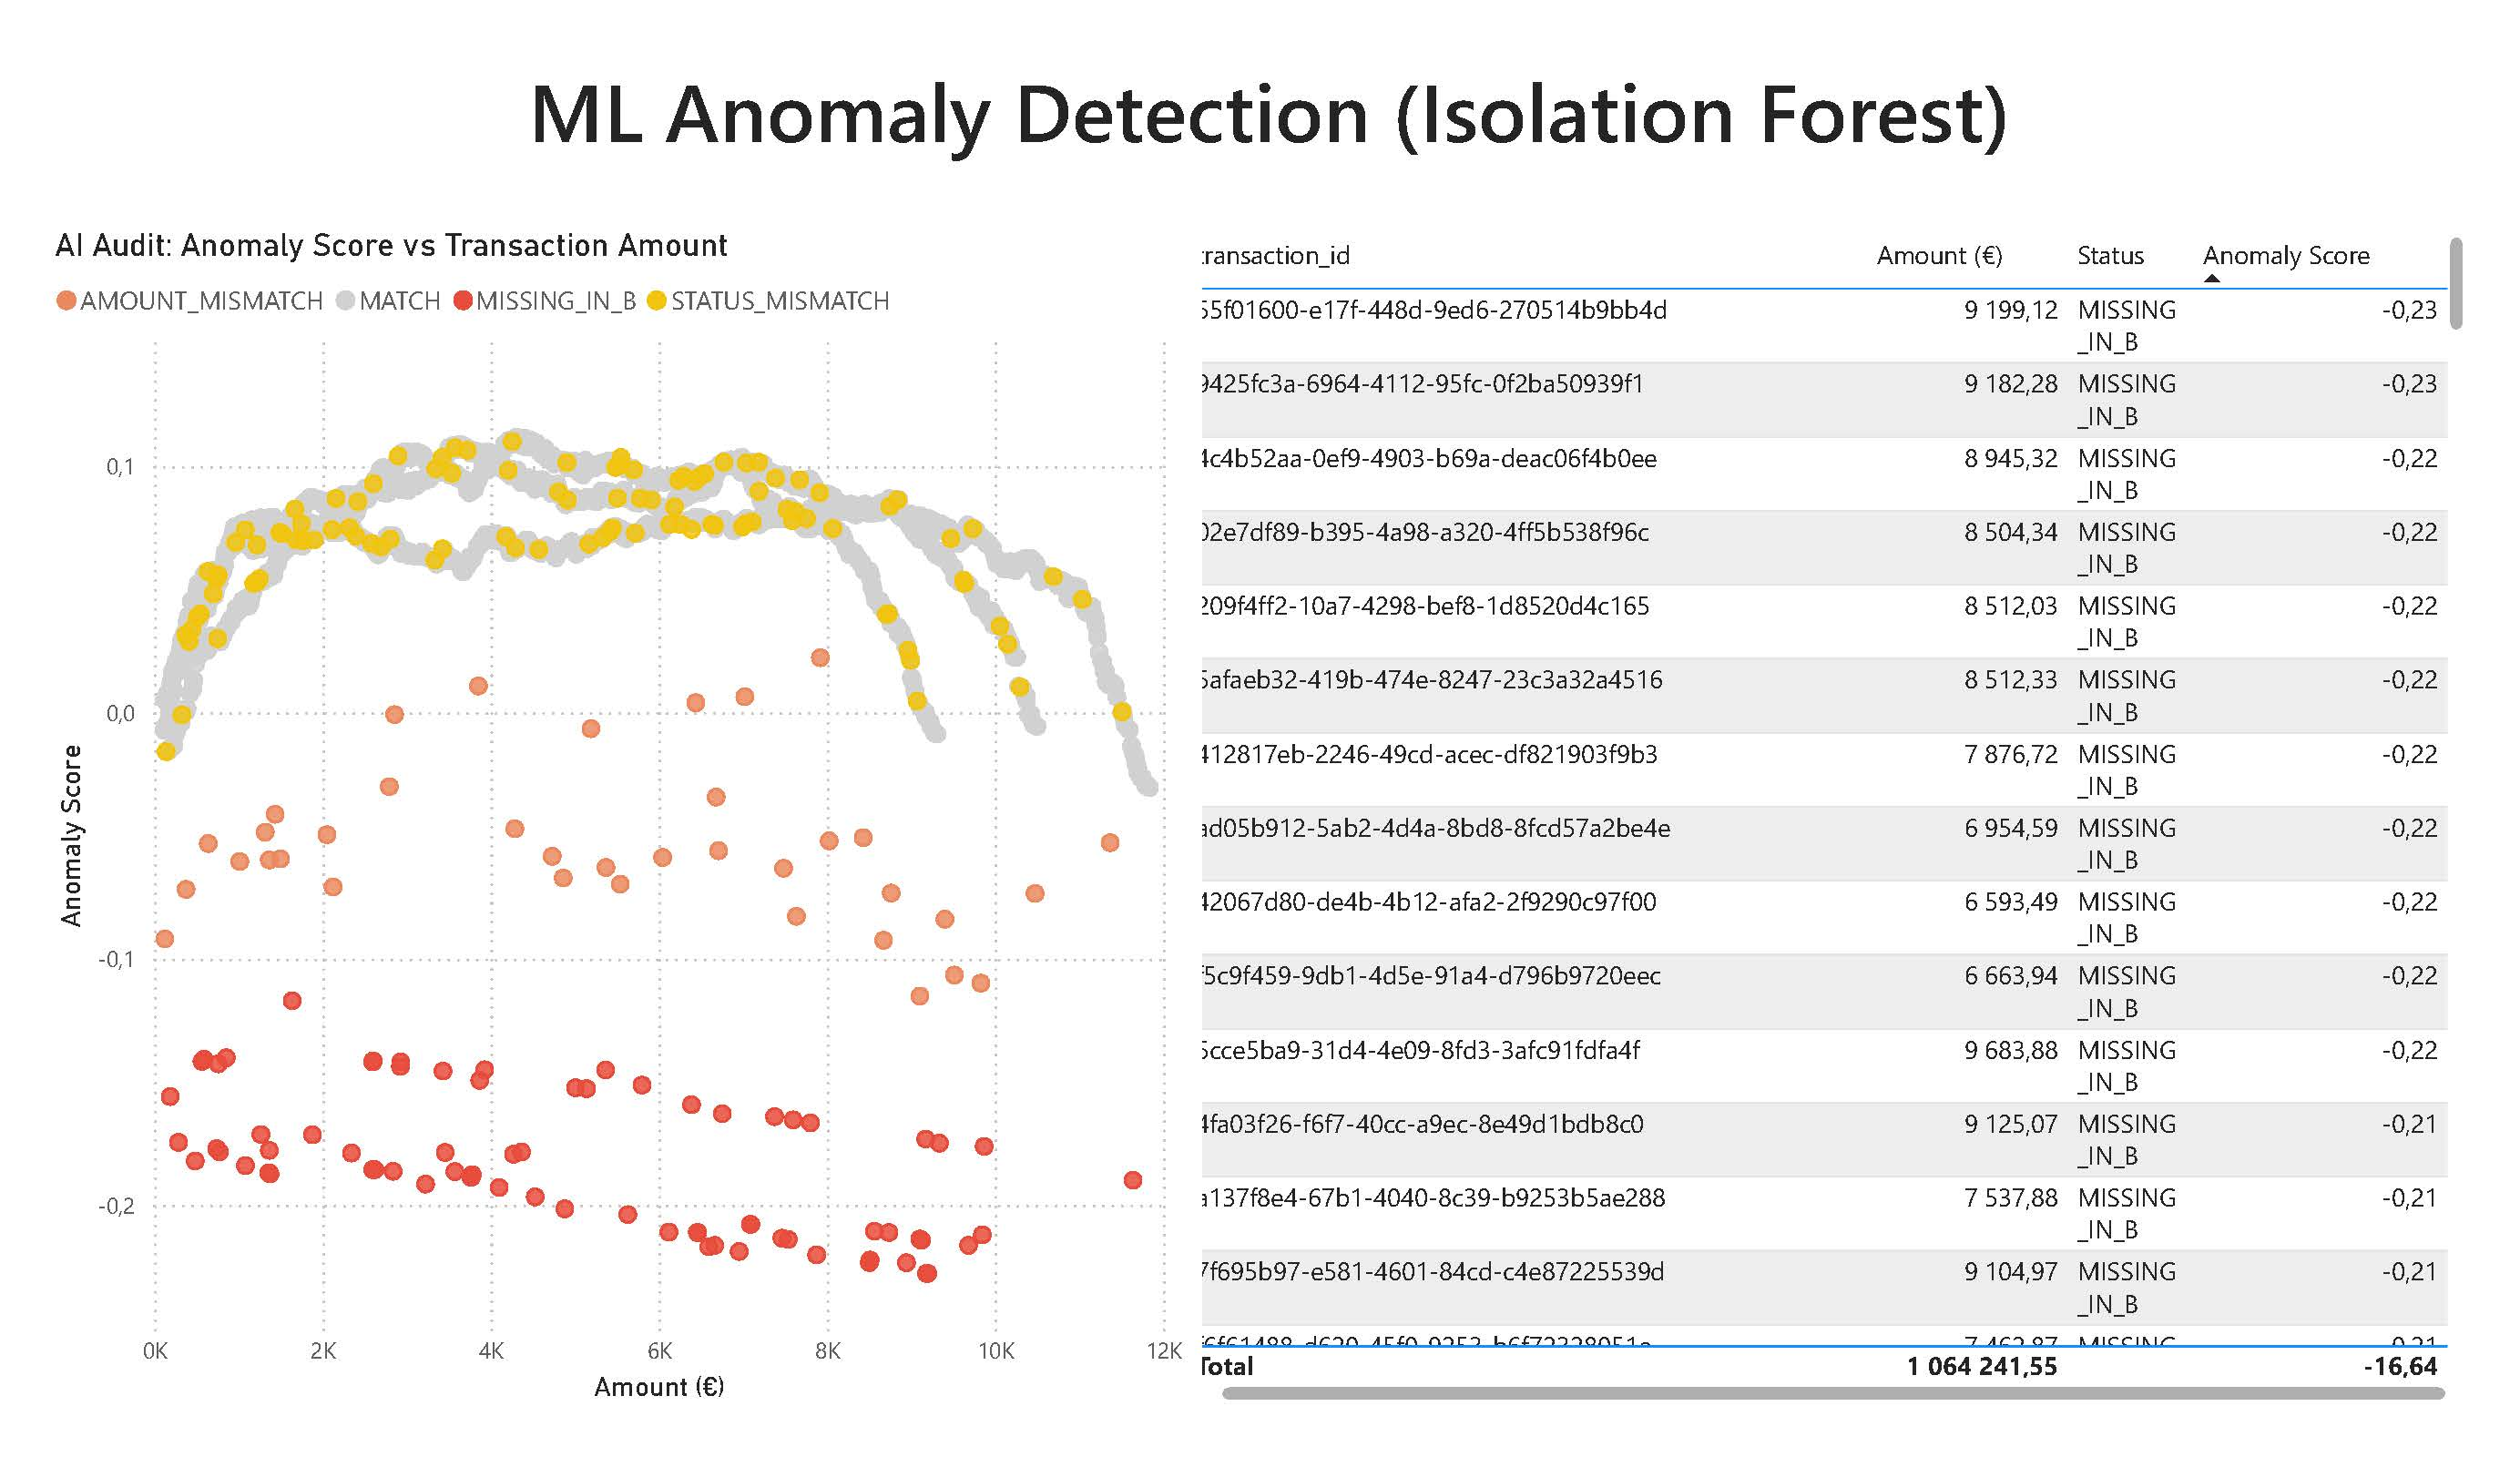

This screenshot's page, from the dashboard's own definition file:
{"tool":"powerbi","page":{"name":"AI RISK AUDIT","canvas":[1280,720],"ordinal":2},"visuals":[{"type":"textbox","box":[10.1,0,1269.9,70.9],"z":0},{"type":"scatterChart","title":"AI Audit: Anomaly Score vs Transaction Amount","fields":{"X":["Sum(final_global_report.amount_eur)"],"Y":["Avg(final_global_report.anomaly_score)"],"Series":["final_global_report.recon_status"],"Category":["final_global_report.transaction_id"]},"box":[0,94.8,604.1,625.3],"z":1},{"type":"tableEx","fields":{"Values":["final_global_report.transaction_id","Sum(final_global_report.amount_eur)","final_global_report.recon_status","Sum(final_global_report.anomaly_score)"]},"box":[604.1,94.8,675.9,625.3],"z":2}]}

Visuals, with their boxes on the page's 1280x720 design canvas (x1, y1, x2, y2). These are canvas units, not pixel positions in the 2520x1457 screenshot, which may show the page scaled, cropped or inside an application window:
textbox: detection(10, 0, 1280, 71)
"AI Audit: Anomaly Score vs Transaction Amount" scatterChart: detection(0, 95, 604, 720)
tableEx - final_global_report.transaction_id x Sum(final_global_report.amount_eur): detection(604, 95, 1280, 720)
